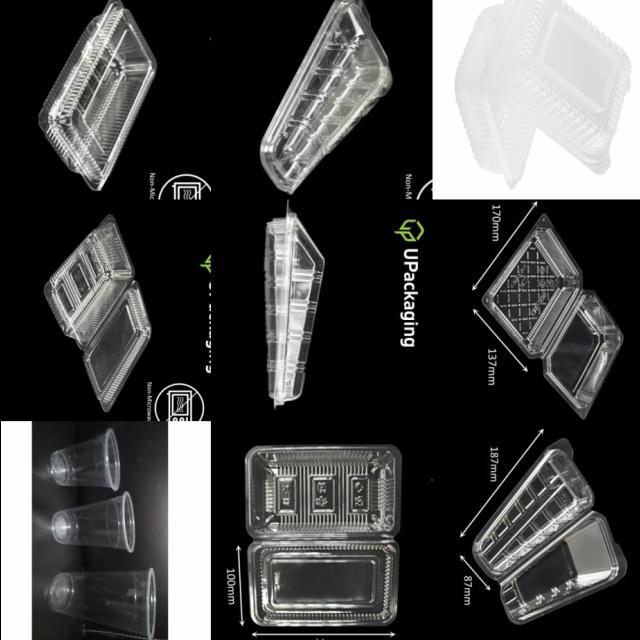plastik: (454, 0, 630, 187), (471, 439, 626, 625), (481, 214, 622, 418), (245, 445, 399, 626), (260, 0, 391, 193), (38, 0, 156, 191), (43, 215, 151, 412), (264, 208, 323, 406), (48, 569, 154, 640), (51, 492, 134, 552), (49, 428, 119, 491)
